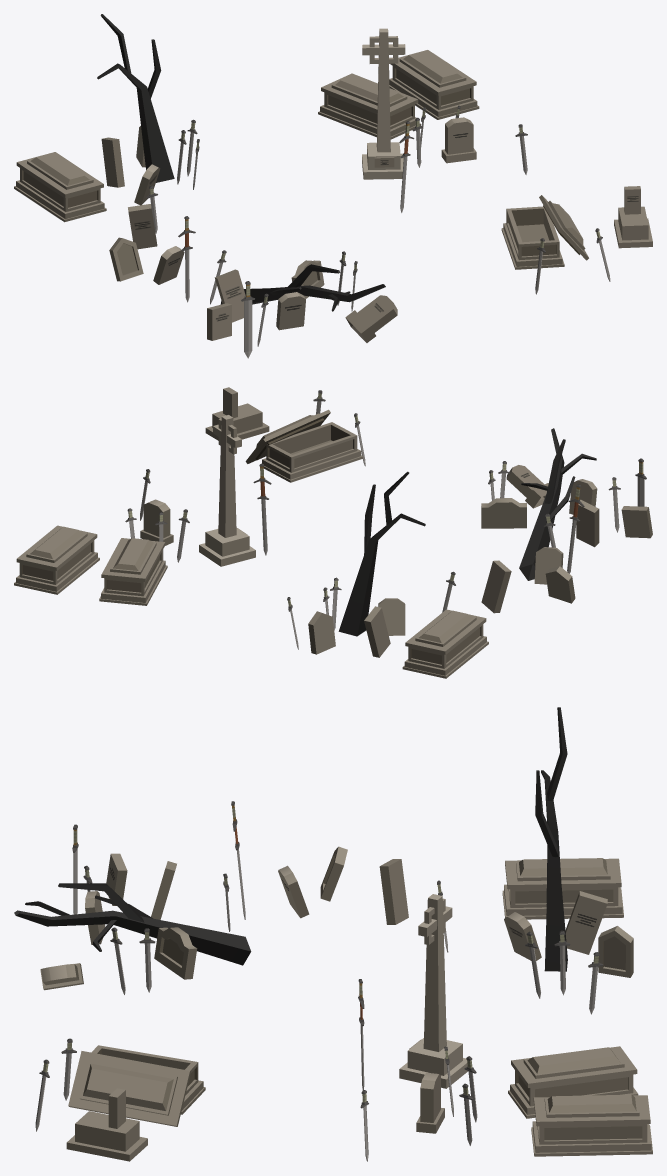
The model's file is SF_Env_Undead_Preset_03.fbx.
3 views of the same model, one above another, from view 1: azimuth 30°, elevation 25°; view 2: azimuth 150°, elevation 25°; view 3: azimuth 270°, elevation 25° (orthographic). The views are drawn at different scales.
Visible parts, largest first — view 1: SF_Env_Undead_Preset_03; view 2: SF_Env_Undead_Preset_03; view 3: SF_Env_Undead_Preset_03.
Boxes of the visible parts, x1,y1,x2,y2 form: SF_Env_Undead_Preset_03: (14, 14, 652, 358); SF_Env_Undead_Preset_03: (14, 387, 652, 678); SF_Env_Undead_Preset_03: (14, 707, 652, 1161).
Size of the model in its own units: 19.52 by 8.36 by 18.85.
